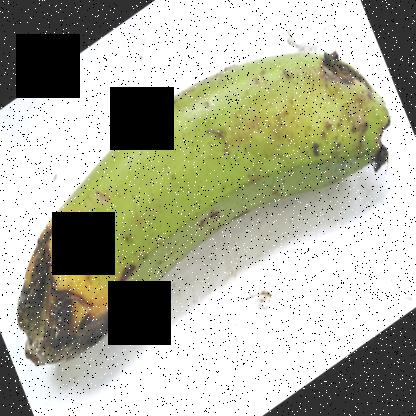rotten: (11, 210, 149, 386)
unripe: (117, 48, 398, 288)
